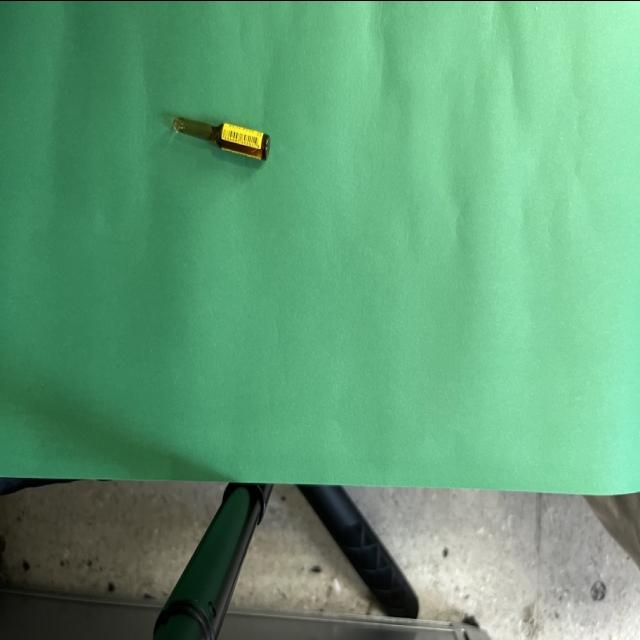Ampoules: (172, 117, 270, 160)
